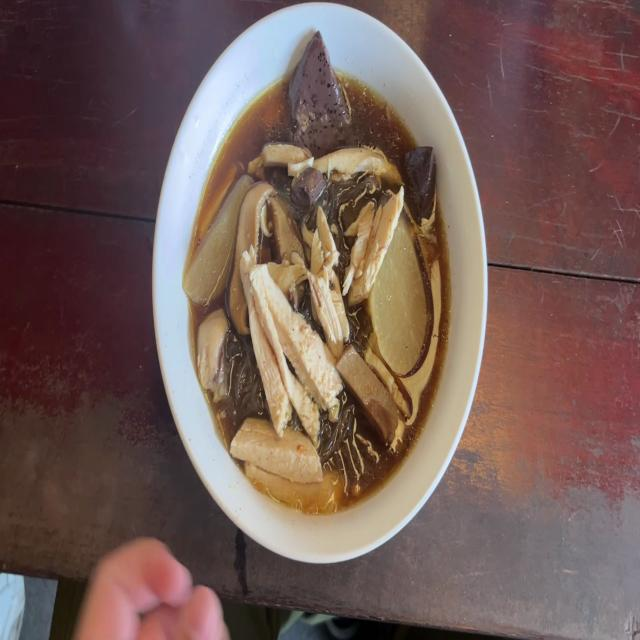boiled_chicken_blood_jelly: (293, 37, 344, 145), (405, 148, 437, 213), (292, 162, 318, 209)
chicken_shredded: (247, 255, 336, 432), (239, 422, 334, 514), (254, 133, 397, 179), (348, 187, 405, 290), (306, 216, 344, 340), (196, 308, 230, 392)
daikon_radish: (383, 239, 425, 364), (190, 176, 234, 294)
noodle: (193, 74, 443, 520)
